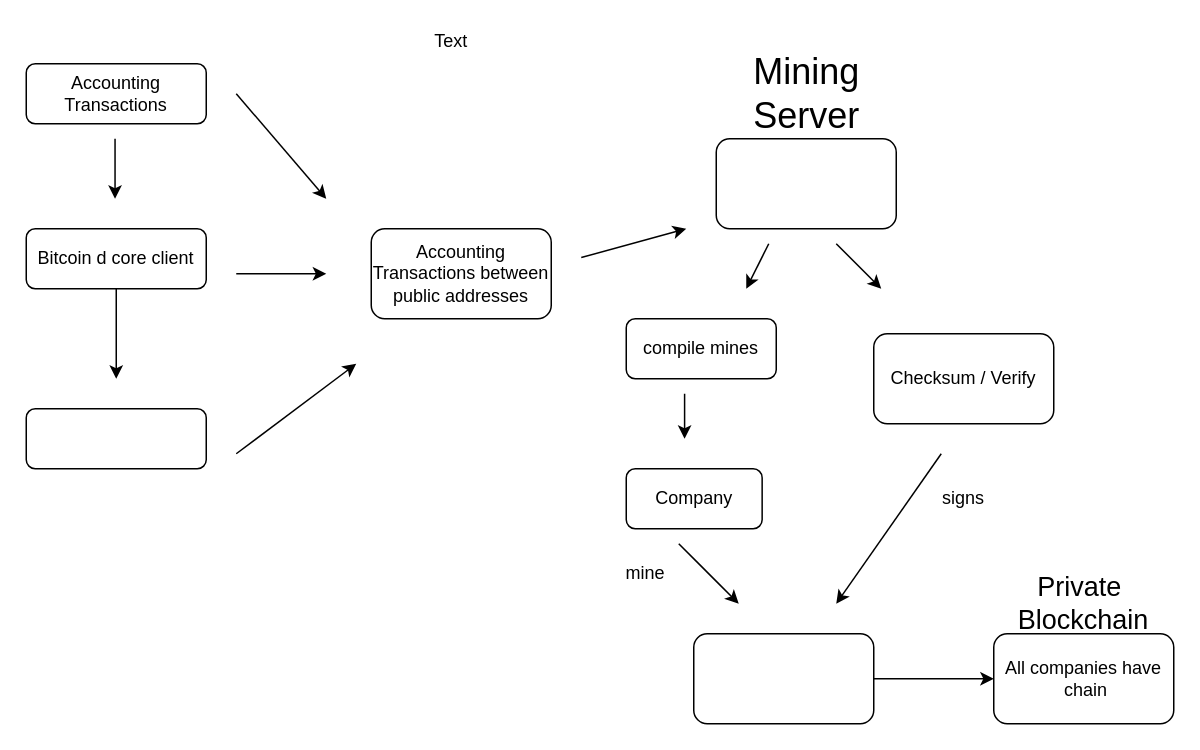
This 1200x750 diagram has some shape labels left out. The shapes that lost their labels are listed below. From the top down, each one's box as (x1, y1, x2, y2) in pixels, then its label:
(715, 137, 896, 229): Transaction block
(25, 407, 206, 469): Accounts/ Vendor Tables
(692, 632, 874, 724): encrypted mine block broadcast
